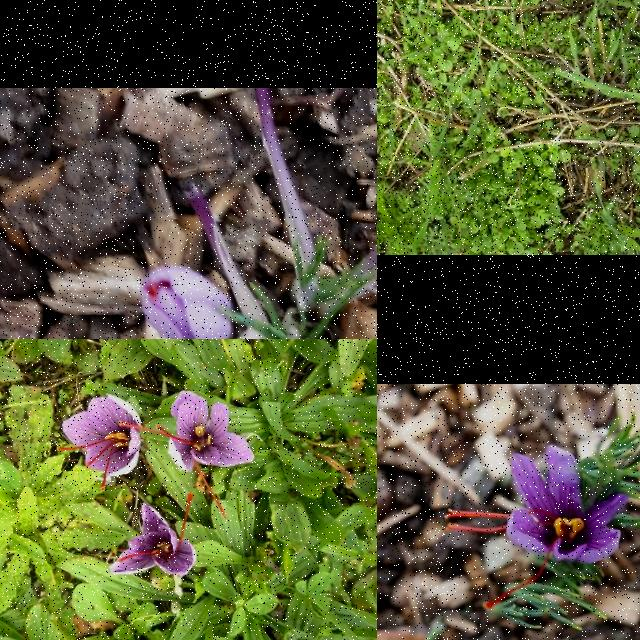flower: (444, 448, 630, 612), (118, 391, 255, 519), (56, 396, 142, 492), (110, 492, 196, 576), (141, 264, 233, 339)
